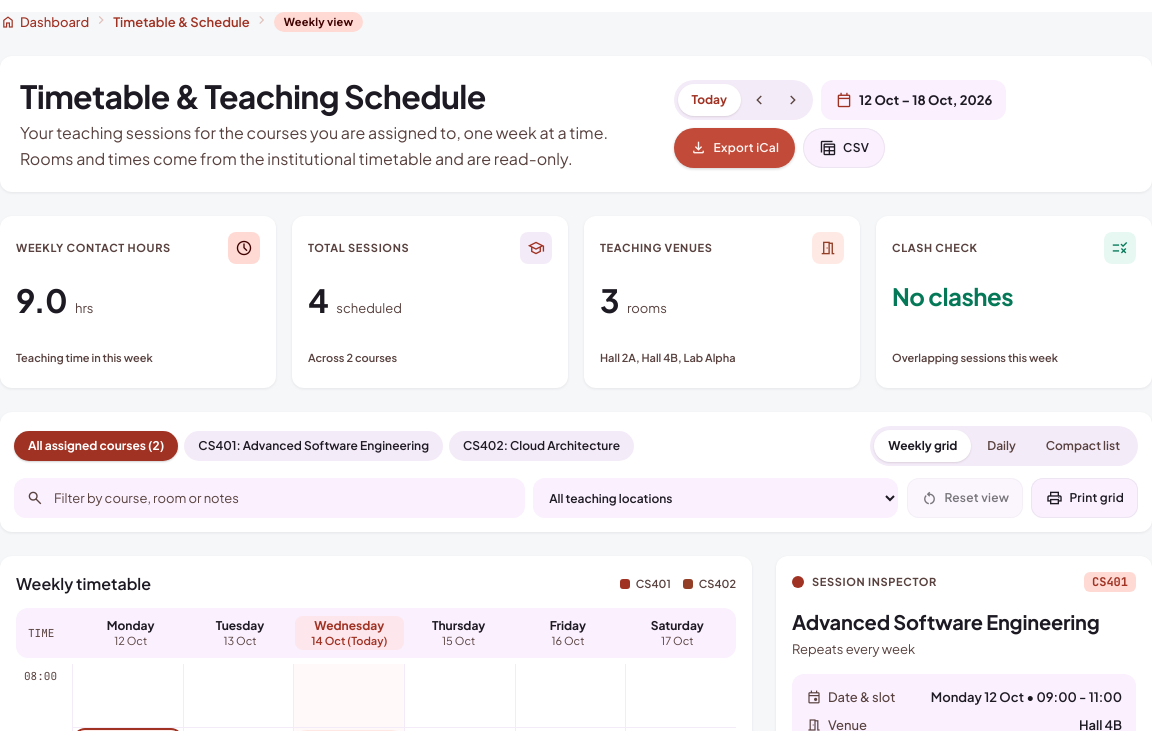
Scenario: timetable › switches to the daily and compact list views
Step 1. Click the tab "Compact list" → x=1083, y=446, box [1032, 430, 1134, 462]
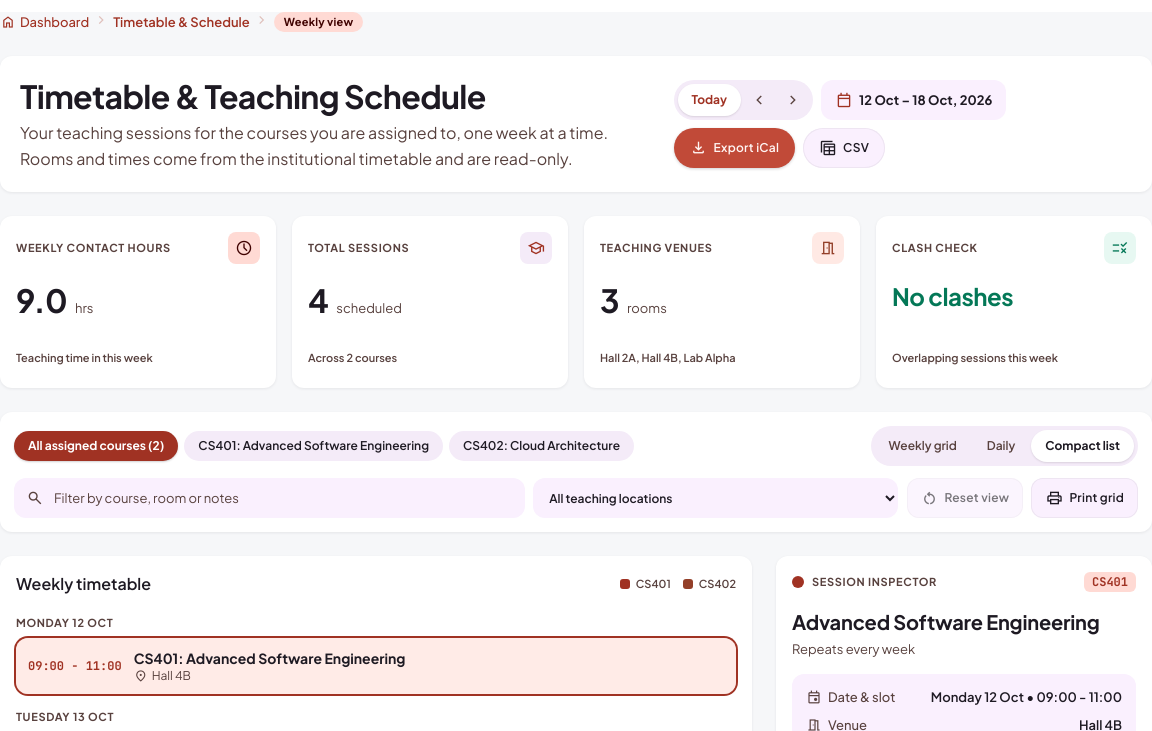
Step 2. Click the tab "Daily" → x=1001, y=446, box [973, 430, 1029, 462]
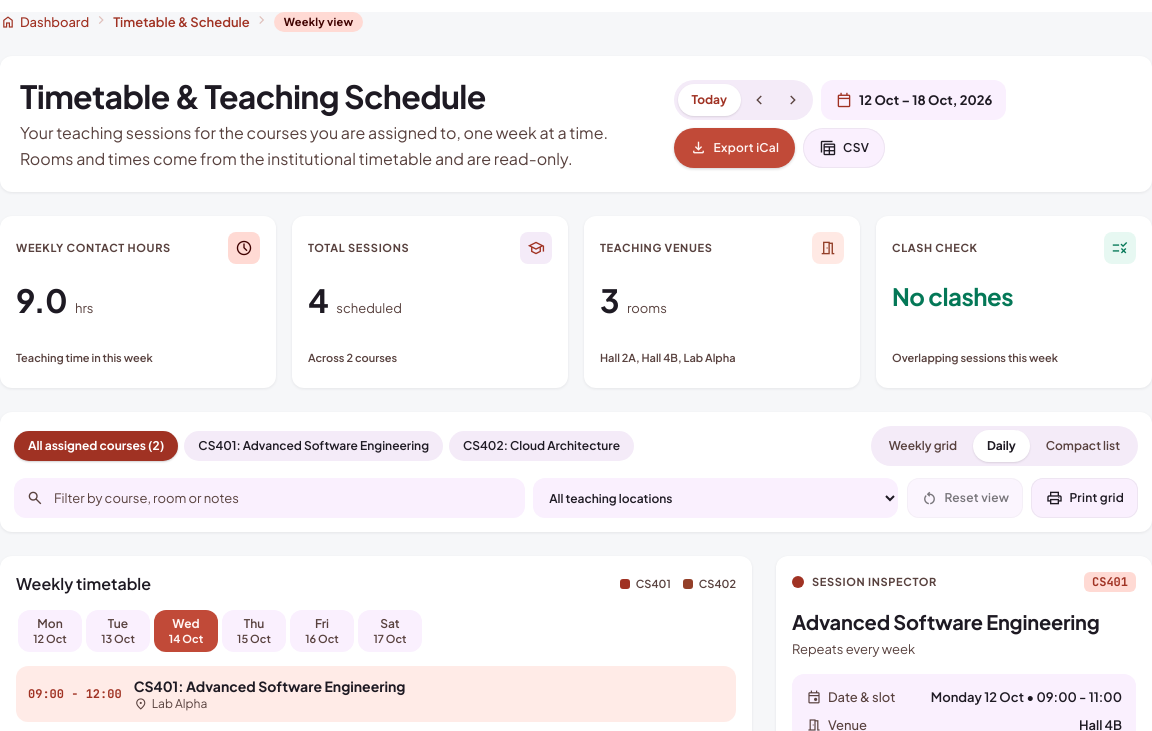
Step 3. Click the tab "Mon 12 Oct" → x=50, y=631, box [18, 610, 82, 652]
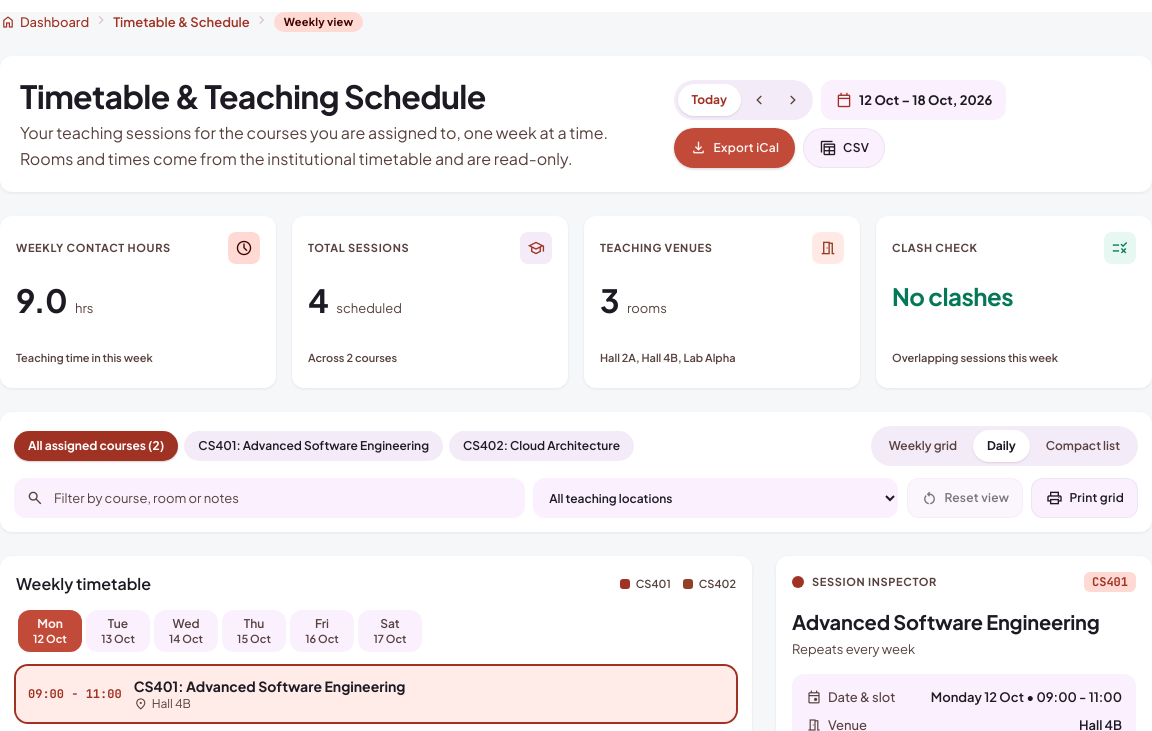
Expected: the text "09:00 - 11:00" is shown, [28, 686, 122, 702]
Step 4. Click the tab "Fri 16 Oct" → x=322, y=631, box [290, 610, 354, 652]
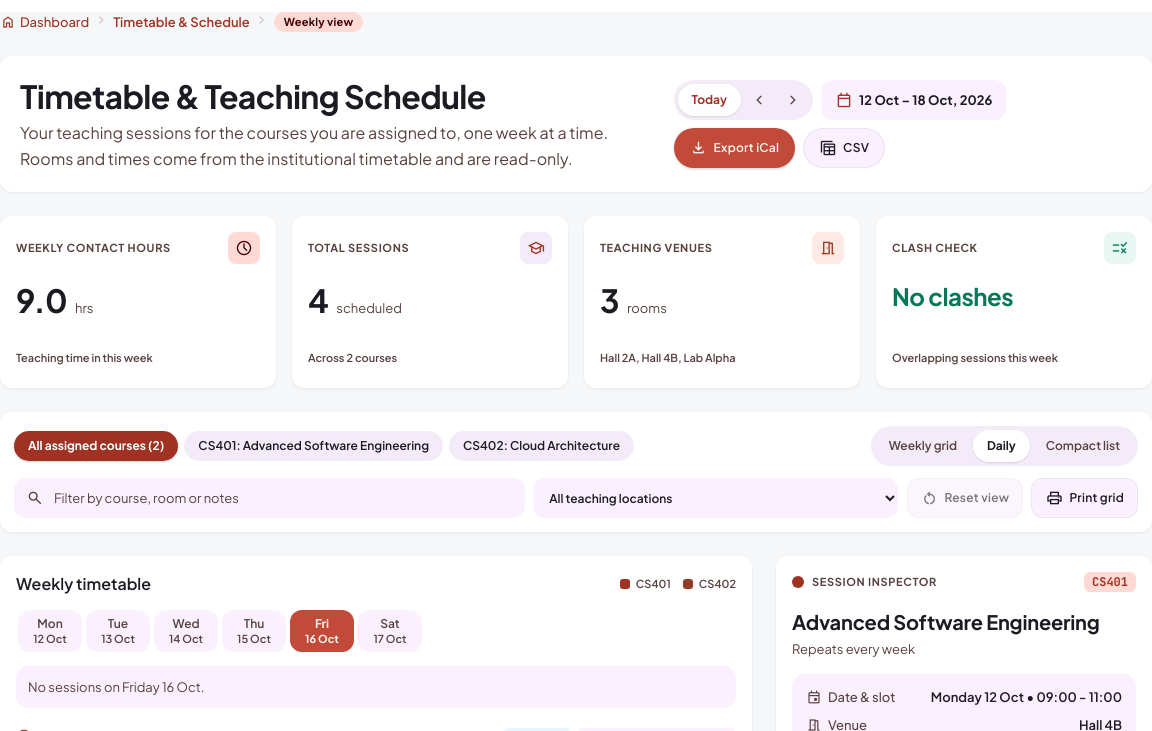
Expected: the text "No sessions on Friday 16 Oct." is shown, [16, 666, 736, 708]
